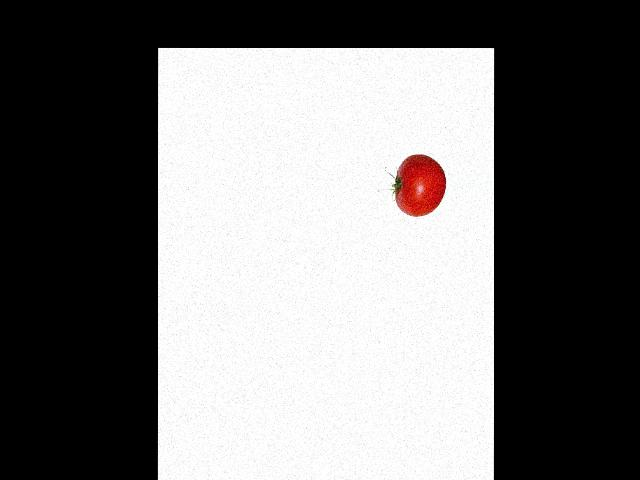tomato: (394, 154, 446, 217)
